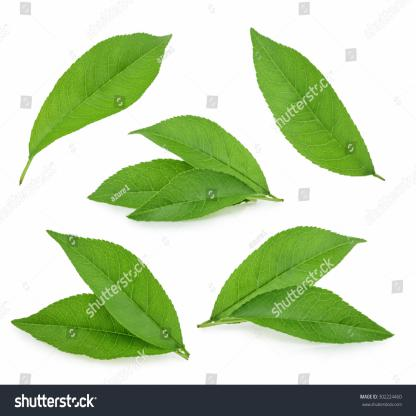peach leaf: (20, 26, 176, 180), (247, 14, 385, 181), (45, 227, 182, 350), (203, 223, 367, 313), (228, 282, 396, 352), (11, 288, 177, 356), (128, 109, 266, 185), (126, 165, 253, 225), (83, 156, 180, 208)
